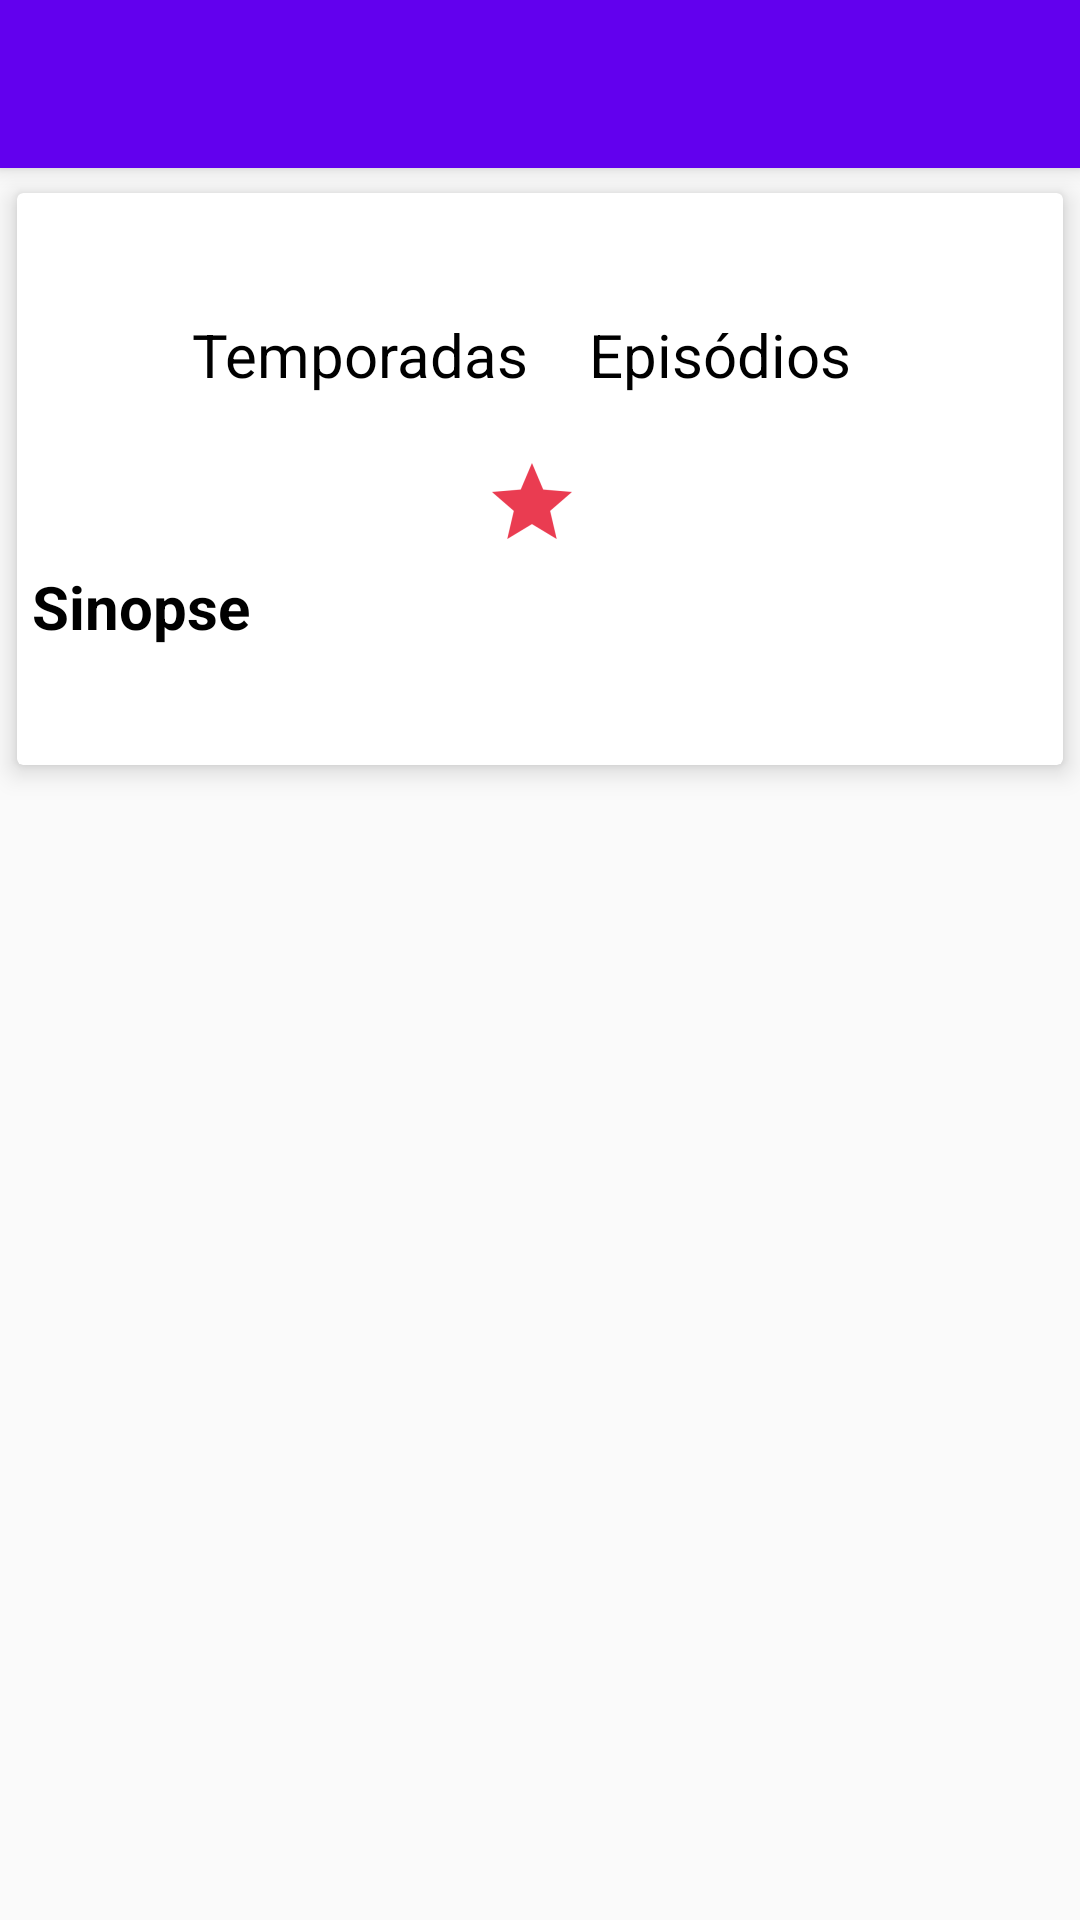

Named icons in this screenshot (1080 × 1920) and their centers, (x,y):
rating: (532,501)
